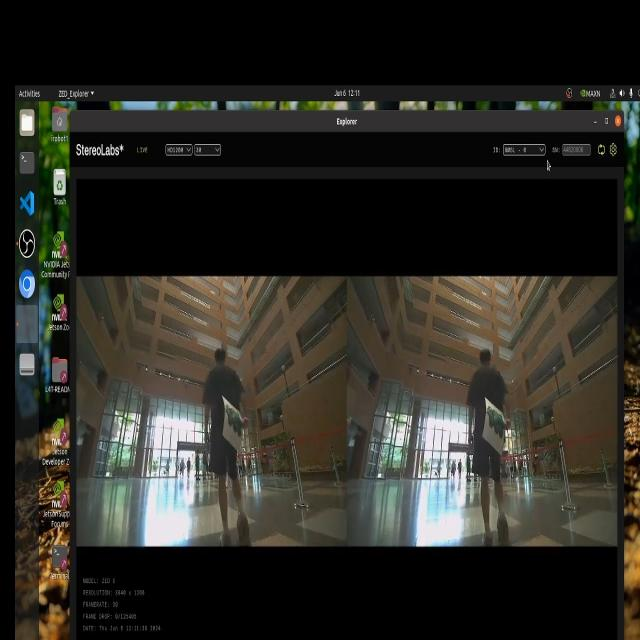green: (225, 401, 244, 441), (486, 408, 508, 442)
